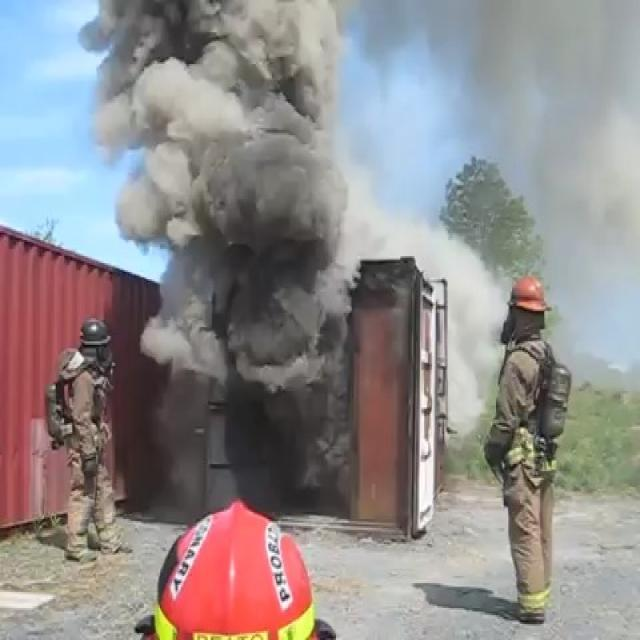Smoke: (136, 8, 337, 514)
